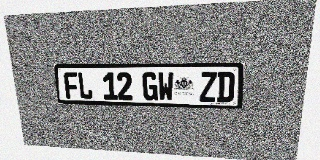1: (102, 72, 118, 100)
2: (117, 72, 132, 100)
D: (216, 72, 235, 102)
F: (63, 72, 79, 99)
G: (142, 72, 158, 101)
L: (77, 72, 93, 99)
W: (158, 72, 174, 101)
Z: (200, 72, 217, 102)
